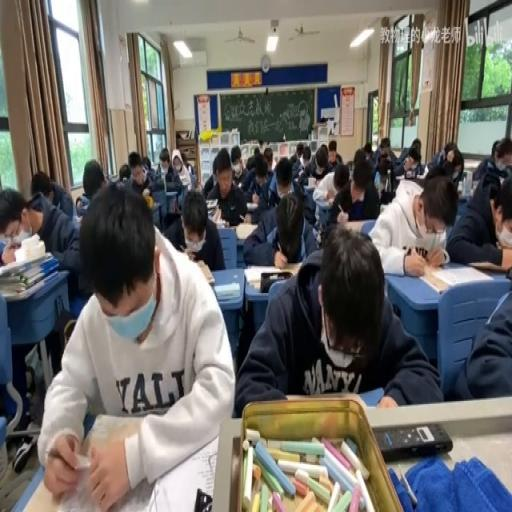calculator: (62, 415, 176, 511), (421, 264, 494, 292), (242, 264, 297, 286), (194, 259, 215, 284), (214, 282, 240, 300), (234, 222, 258, 240), (344, 218, 373, 232), (203, 199, 219, 222), (165, 189, 180, 211), (467, 260, 496, 270), (274, 259, 302, 267), (213, 218, 228, 228), (306, 176, 316, 188), (80, 195, 90, 206), (395, 172, 410, 179), (246, 202, 258, 210), (422, 164, 428, 176)
paper: (234, 225, 437, 414), (2, 181, 80, 421), (366, 171, 454, 273), (241, 181, 317, 266), (326, 154, 381, 223), (201, 148, 248, 226), (29, 170, 73, 220), (469, 138, 512, 186), (76, 159, 109, 218), (0, 189, 29, 252), (426, 141, 463, 185), (150, 146, 184, 190), (304, 141, 341, 179), (126, 151, 156, 196), (392, 136, 422, 175), (371, 135, 397, 171), (376, 164, 398, 204), (496, 186, 510, 235), (275, 160, 292, 190), (118, 164, 132, 184), (186, 159, 196, 181), (293, 140, 302, 164), (254, 166, 266, 184), (263, 151, 273, 172), (490, 139, 501, 158), (230, 154, 241, 170), (362, 142, 372, 158), (158, 149, 168, 165), (296, 168, 306, 183), (439, 148, 449, 162), (302, 151, 310, 166), (314, 162, 324, 174), (246, 155, 254, 169), (411, 142, 419, 155), (320, 148, 327, 162), (173, 158, 180, 171), (154, 162, 160, 176), (253, 145, 259, 155)
person: (373, 422, 452, 461), (193, 488, 212, 509)
